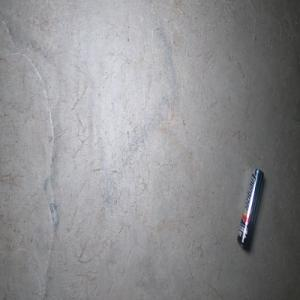Battery: (236, 167, 264, 251)
